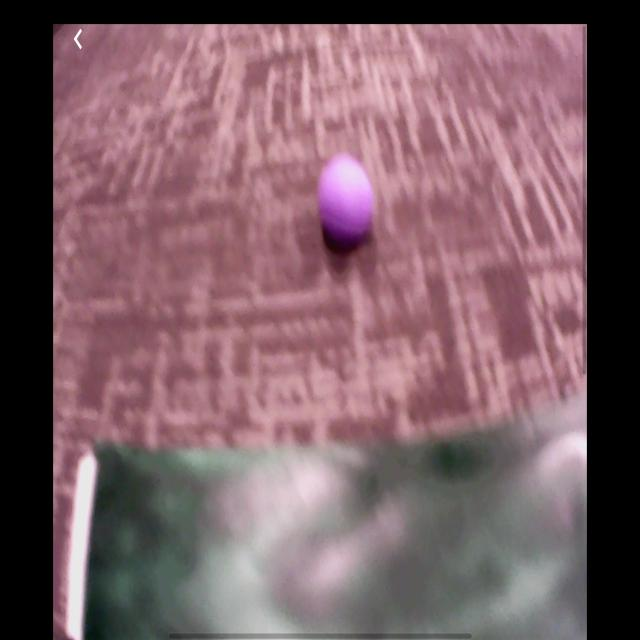ball: (321, 156, 374, 240)
